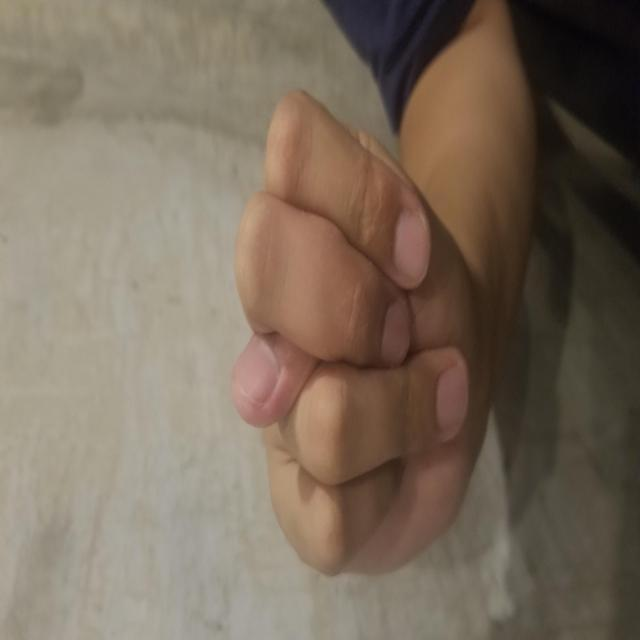N: (64, 229, 554, 481)
